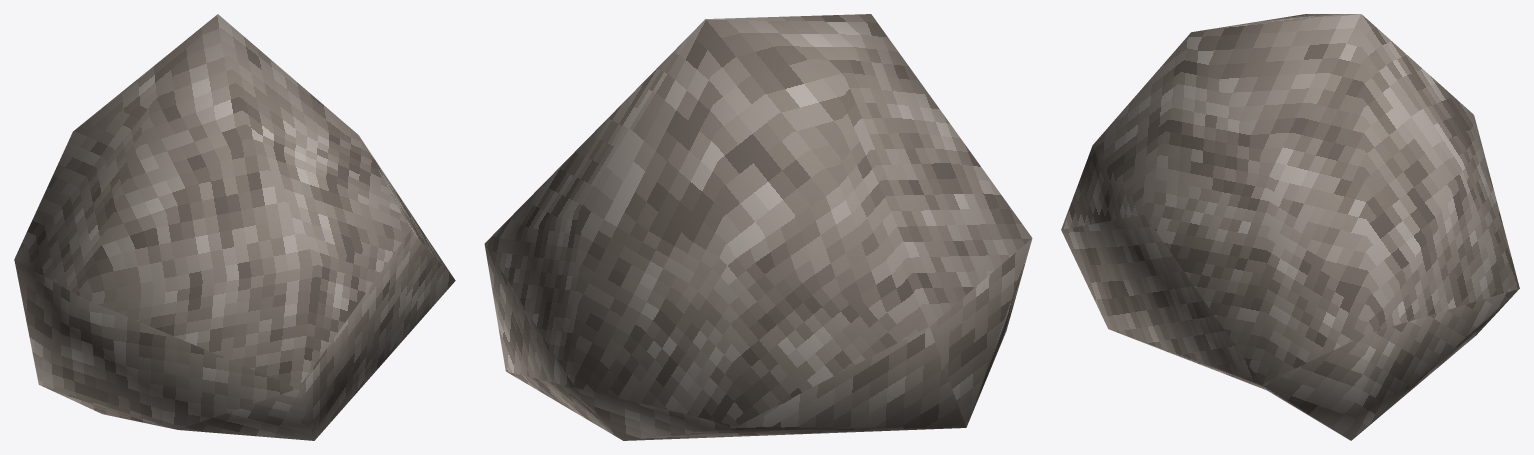
Rendered from sboulderreg_1.obj.
The picture shows the model from 3 angles, left to right: view 1: azimuth 30°, elevation 25°; view 2: azimuth 150°, elevation 25°; view 3: azimuth 270°, elevation 25°; orthographic projection. The views are drawn at different scales.
Visible parts, largest first — view 1: sboulderreg_1; view 2: sboulderreg_1; view 3: sboulderreg_1.
Boxes of the visible parts, x1=… form: sboulderreg_1: x1=14, y1=14, x2=455, y2=440; sboulderreg_1: x1=484, y1=14, x2=1032, y2=440; sboulderreg_1: x1=1061, y1=14, x2=1519, y2=440.
Size of the model in its own units: 1.01 by 0.9055 by 1.01.
